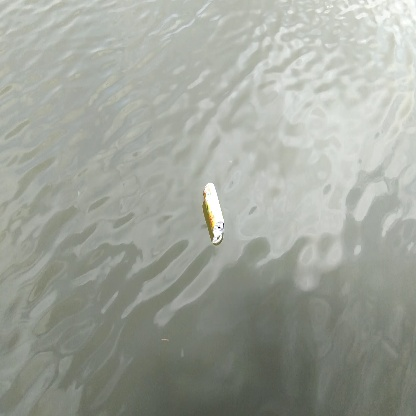bottle: (198, 181, 227, 243)
